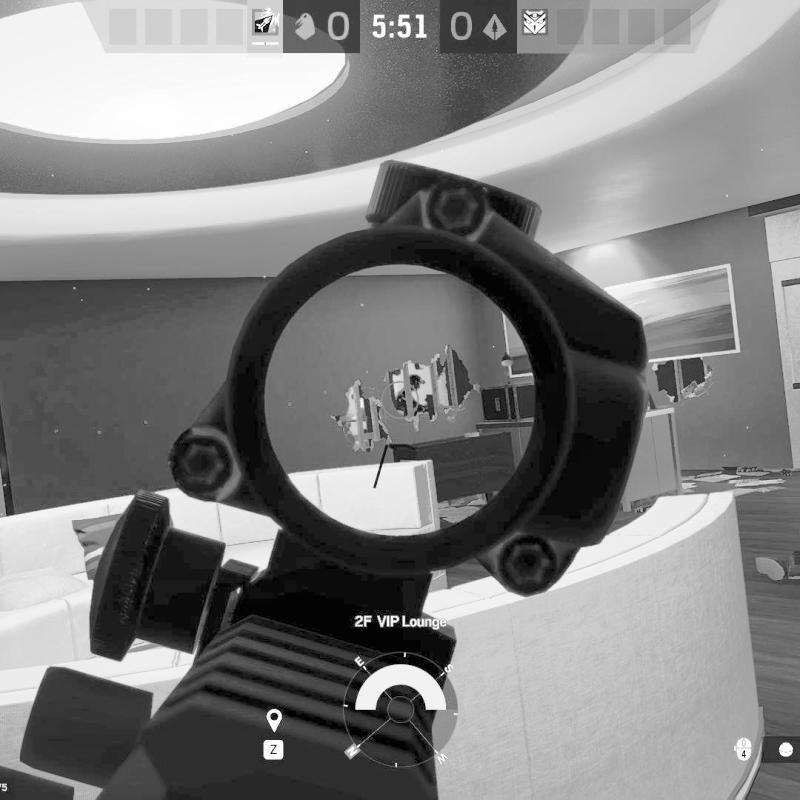Character: (388, 371, 427, 416)
Head: (406, 376, 424, 392)
